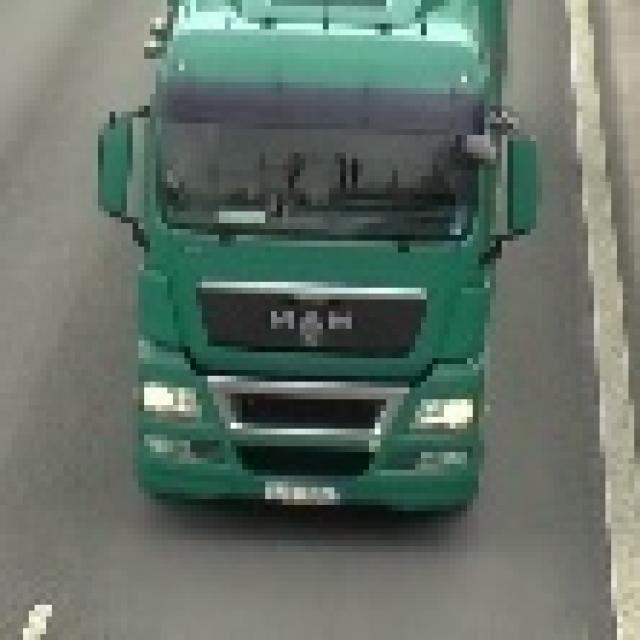truck: (92, 0, 536, 517)
